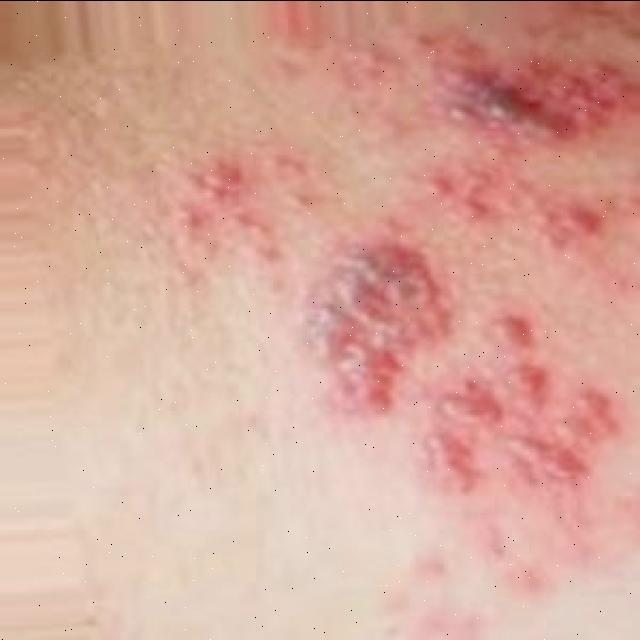Shingles: (301, 228, 619, 495), (416, 29, 632, 148), (158, 144, 310, 268)
